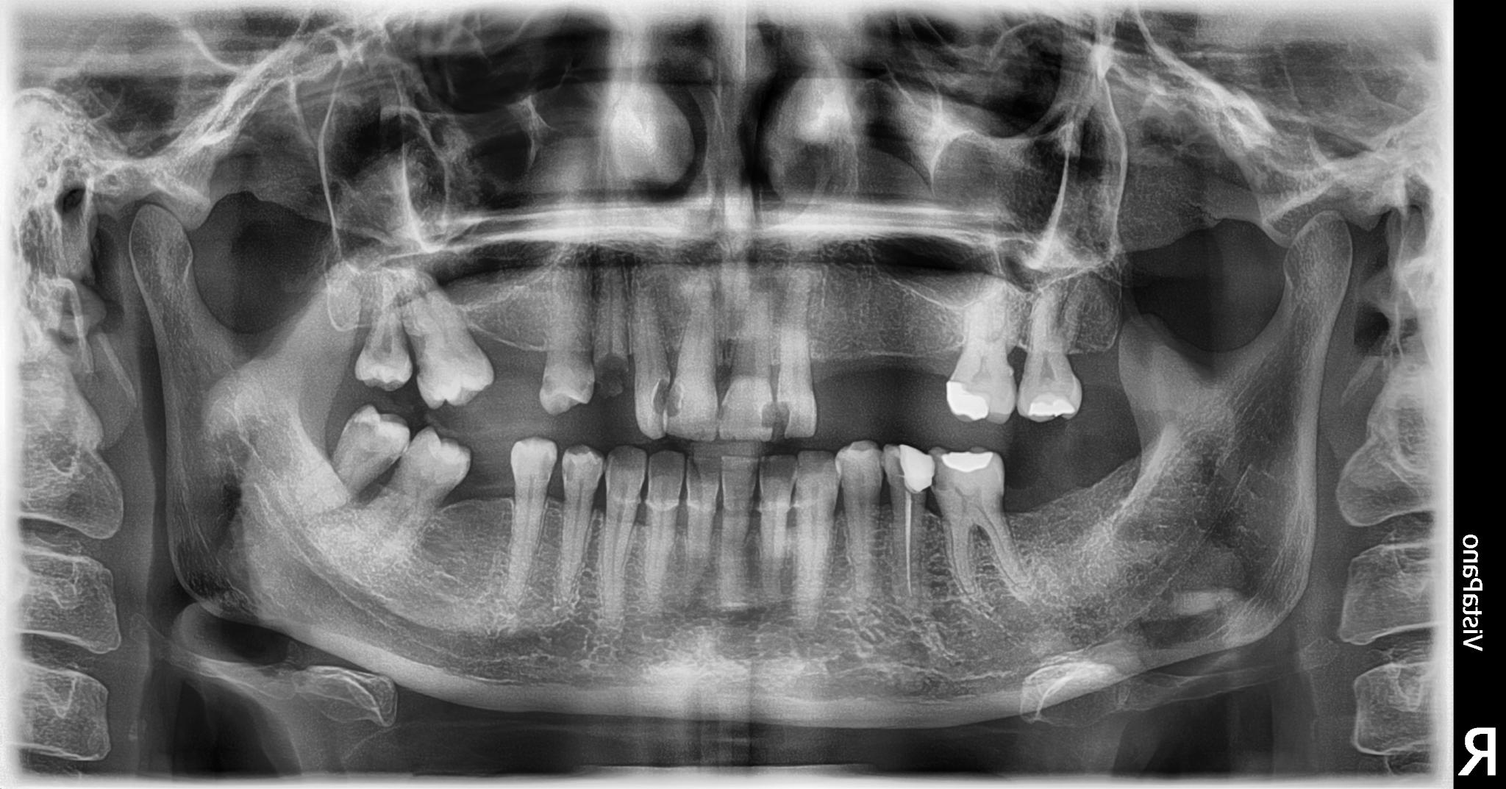Premolars: (506, 276, 1506, 738), (471, 230, 1398, 676), (273, 255, 835, 705), (318, 231, 896, 667), (409, 203, 1231, 486), (387, 305, 1163, 581), (358, 308, 1078, 587), (344, 238, 1003, 511), (317, 253, 942, 527), (296, 223, 886, 487), (220, 210, 581, 608), (255, 192, 704, 479), (212, 203, 611, 490)
